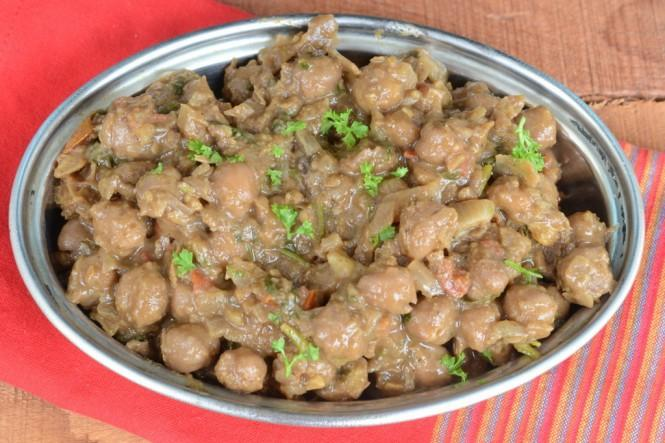Chole: (54, 14, 613, 400)
